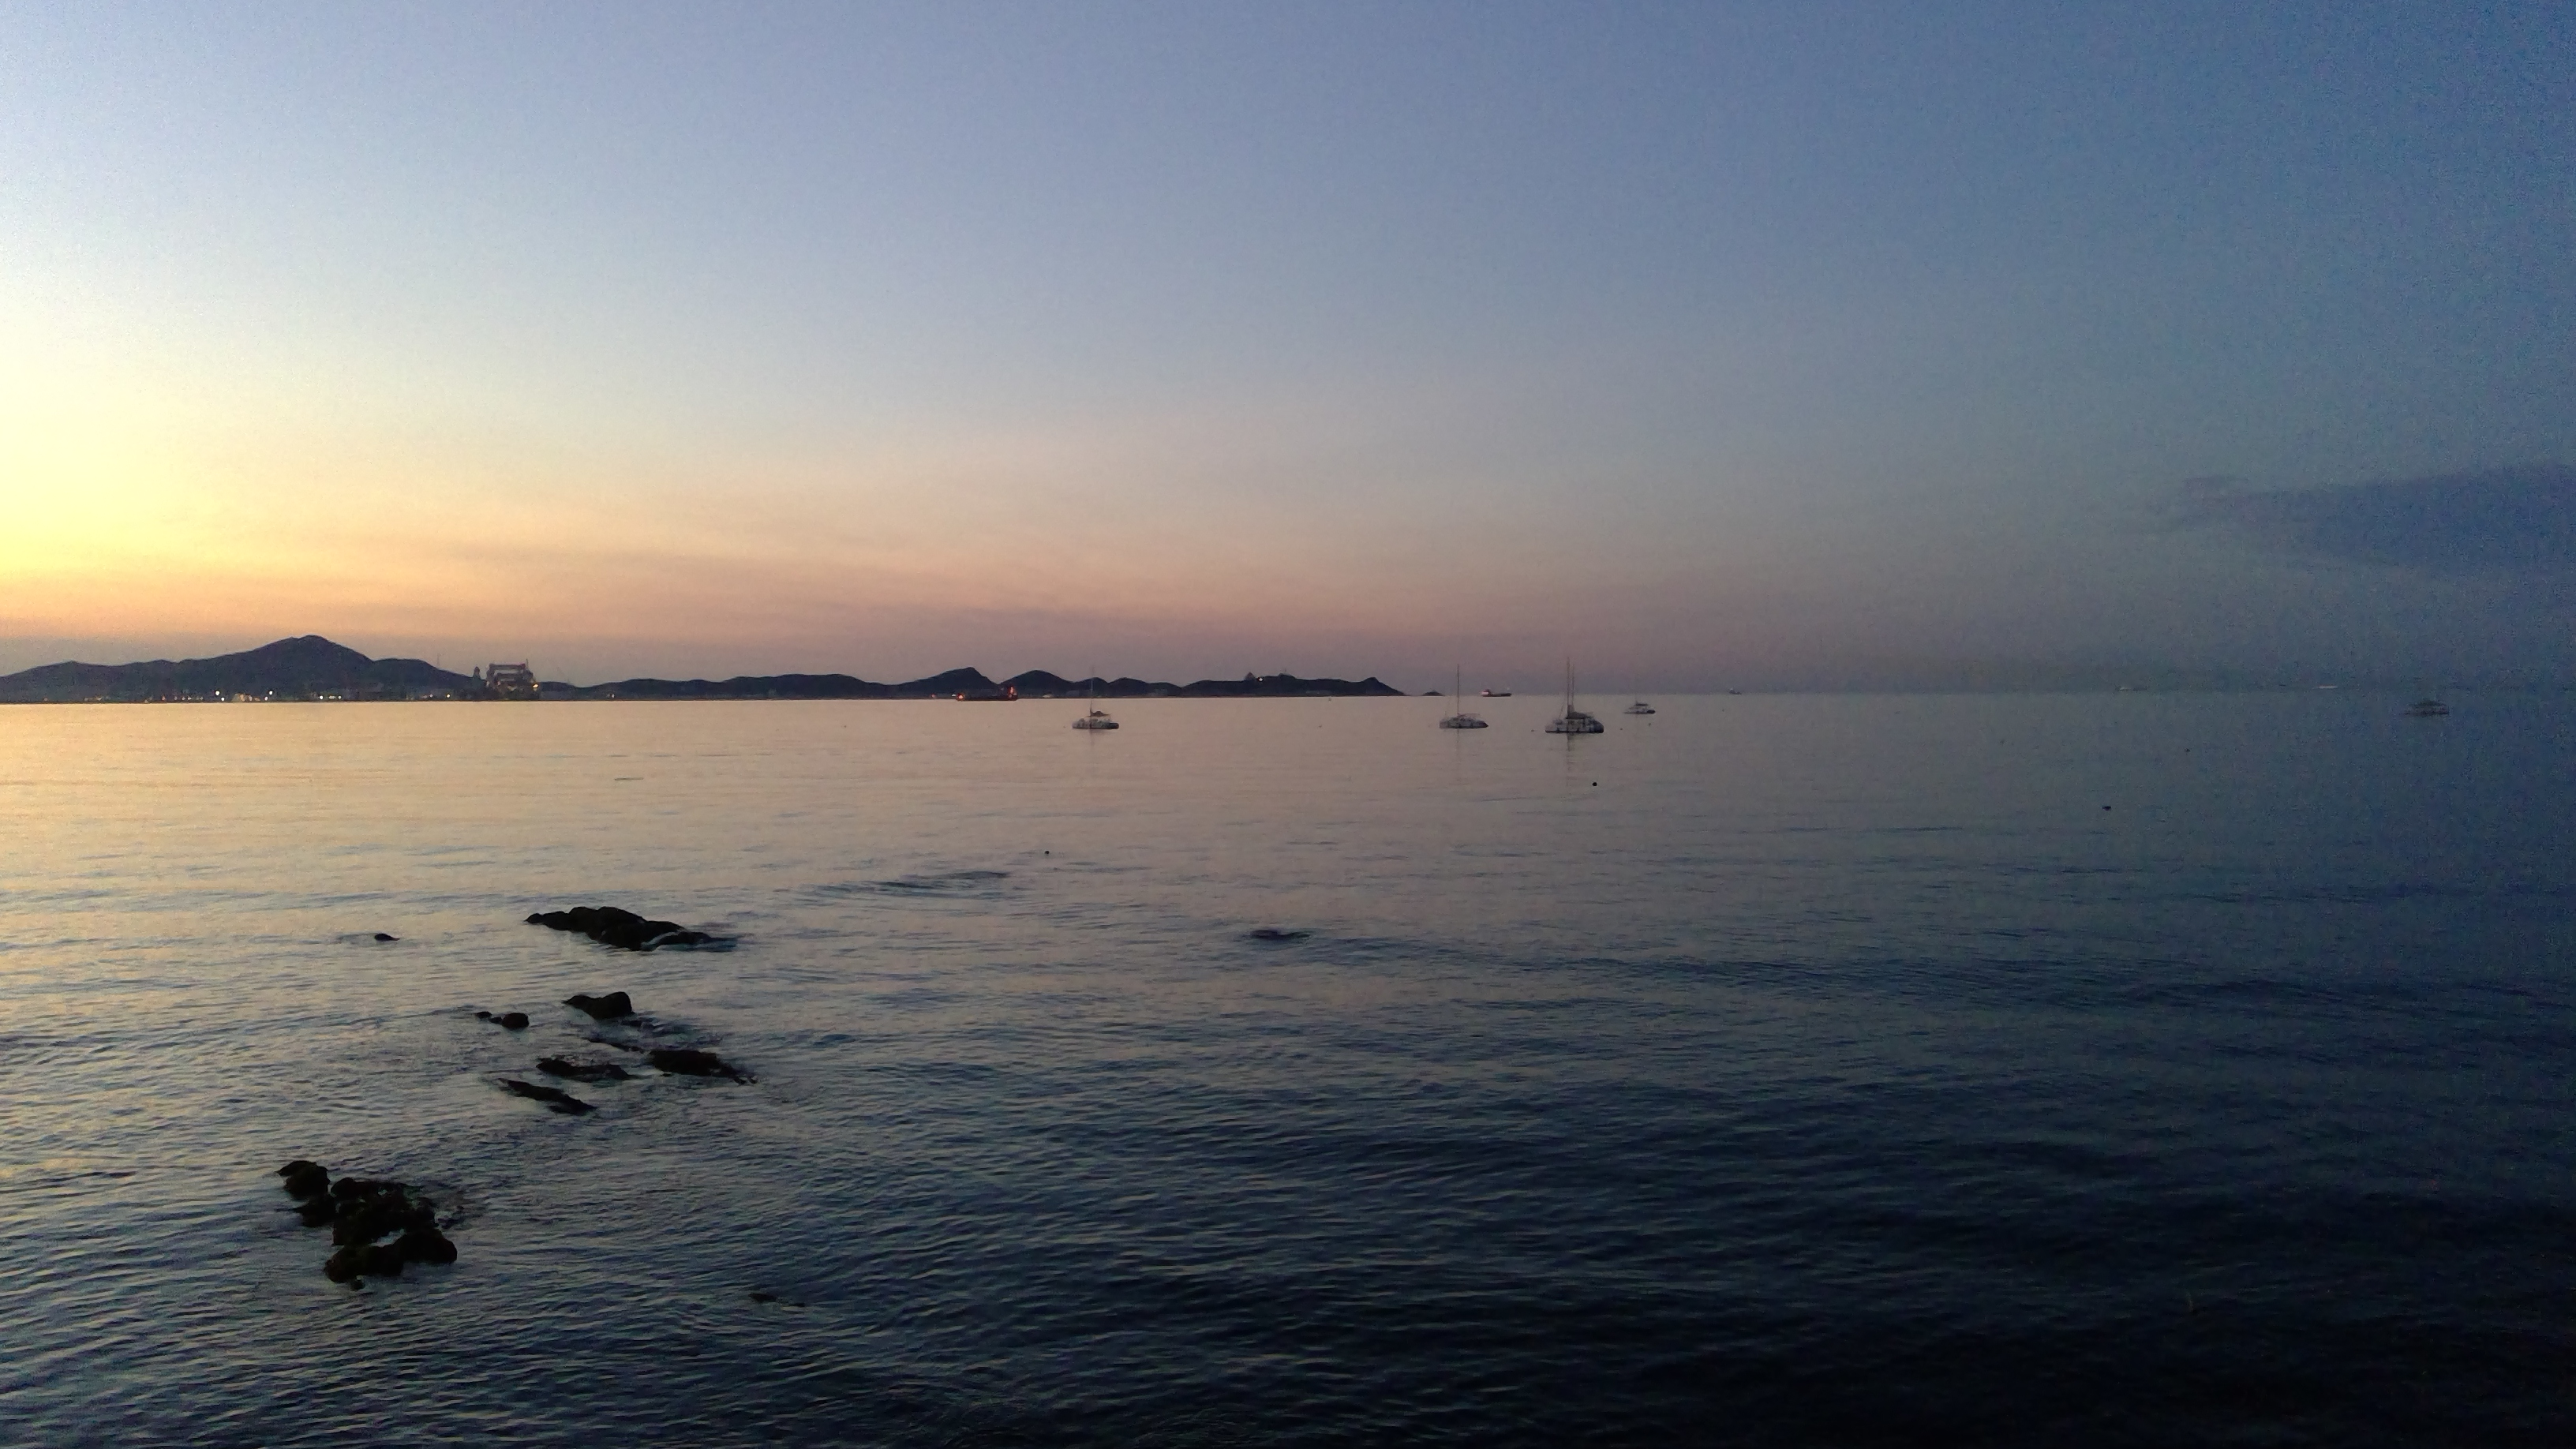boat: (1530, 660, 1606, 741), (1431, 656, 1491, 734), (1069, 676, 1125, 734)
rock: (260, 1139, 474, 1299), (510, 878, 740, 959), (490, 1072, 632, 1125), (554, 977, 646, 1039), (639, 1046, 747, 1097), (547, 1037, 637, 1090), (467, 1005, 545, 1053)
